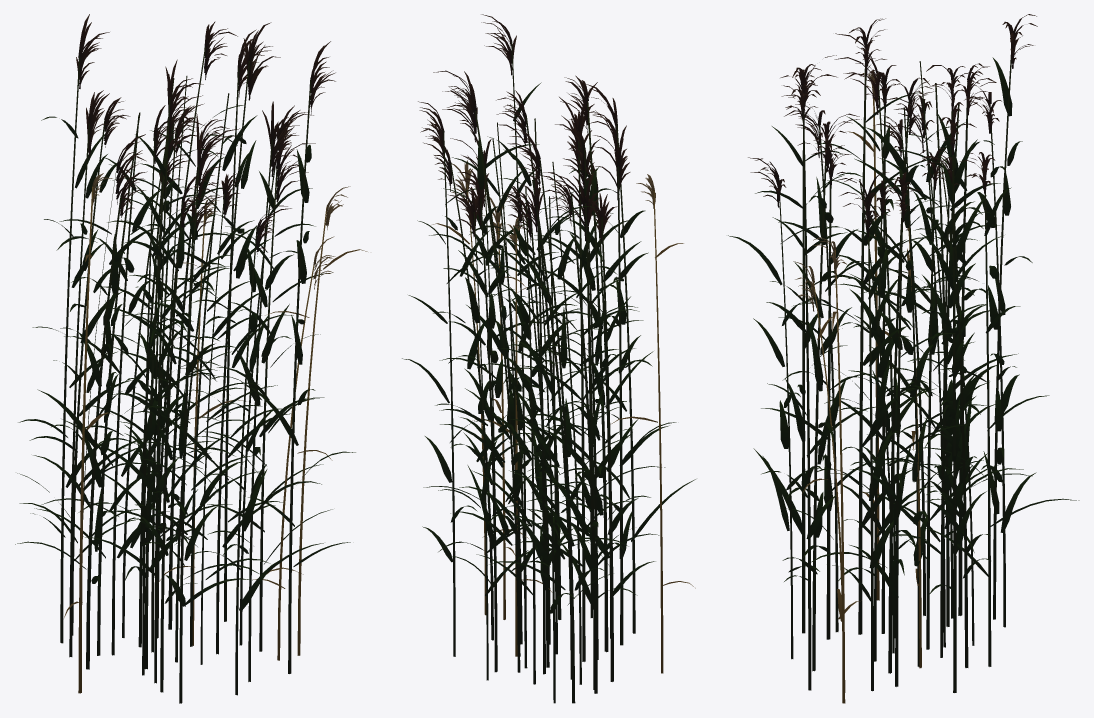
File: SM_Reed_B.fbx
3 renders of one model, left to right at view 1: azimuth 30°, elevation 25°; view 2: azimuth 150°, elevation 25°; view 3: azimuth 270°, elevation 25°, orthographic. The views are drawn at different scales.
Parts seen in each view (by area): view 1: SM_Reed_B; view 2: SM_Reed_B; view 3: SM_Reed_B.
Boxes of the visible parts, box(x1,y1,x2,y2) form: SM_Reed_B: box(15, 14, 367, 703); SM_Reed_B: box(402, 14, 695, 703); SM_Reed_B: box(728, 14, 1079, 703).
Bounding box in the file's own units: 156 × 155 × 312.
